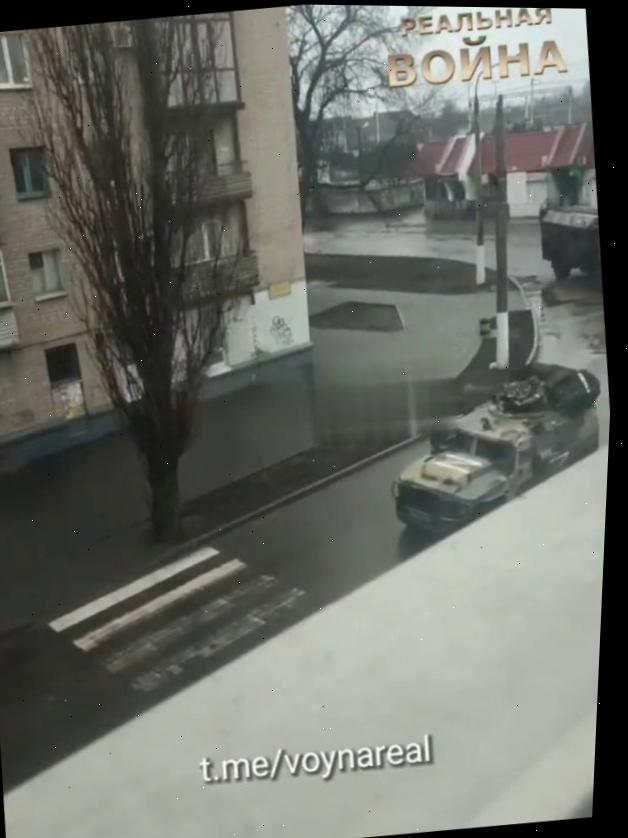armored_car: (377, 357, 610, 539)
truck: (529, 194, 607, 297)
